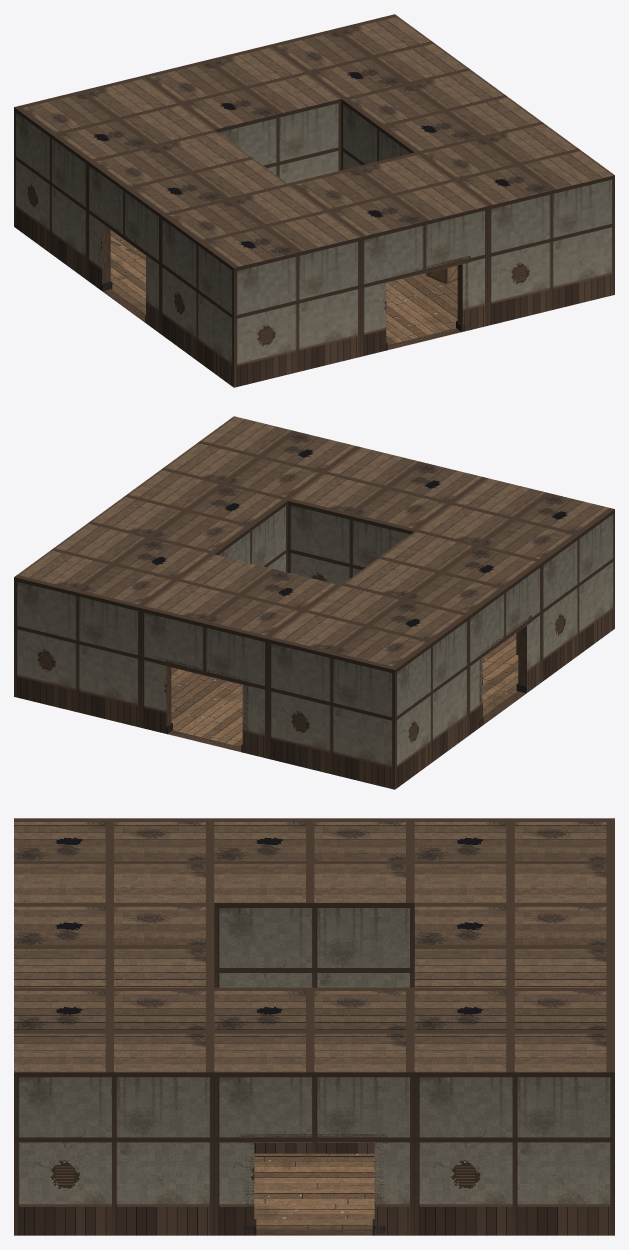
3 views of the same model, one above another, from view 1: azimuth 30°, elevation 25°; view 2: azimuth 150°, elevation 25°; view 3: azimuth 270°, elevation 25° (orthographic). The views are drawn at different scales.
Visible parts, largest first — view 1: O_A, O_A_Deco; view 2: O_A, O_A_Deco; view 3: O_A, O_A_Deco.
Boxes of the visible parts, x1=… form: O_A: x1=14, y1=14, x2=614, y2=387; O_A_Deco: x1=98, y1=240, x2=469, y2=351; O_A: x1=14, y1=416, x2=614, y2=789; O_A_Deco: x1=159, y1=683, x2=526, y2=752; O_A: x1=14, y1=818, x2=614, y2=1235; O_A_Deco: x1=243, y1=1219, x2=385, y2=1235.
Size of the model in its own units: 2 by 2 by 0.6.
4 materials, 4 textured.
